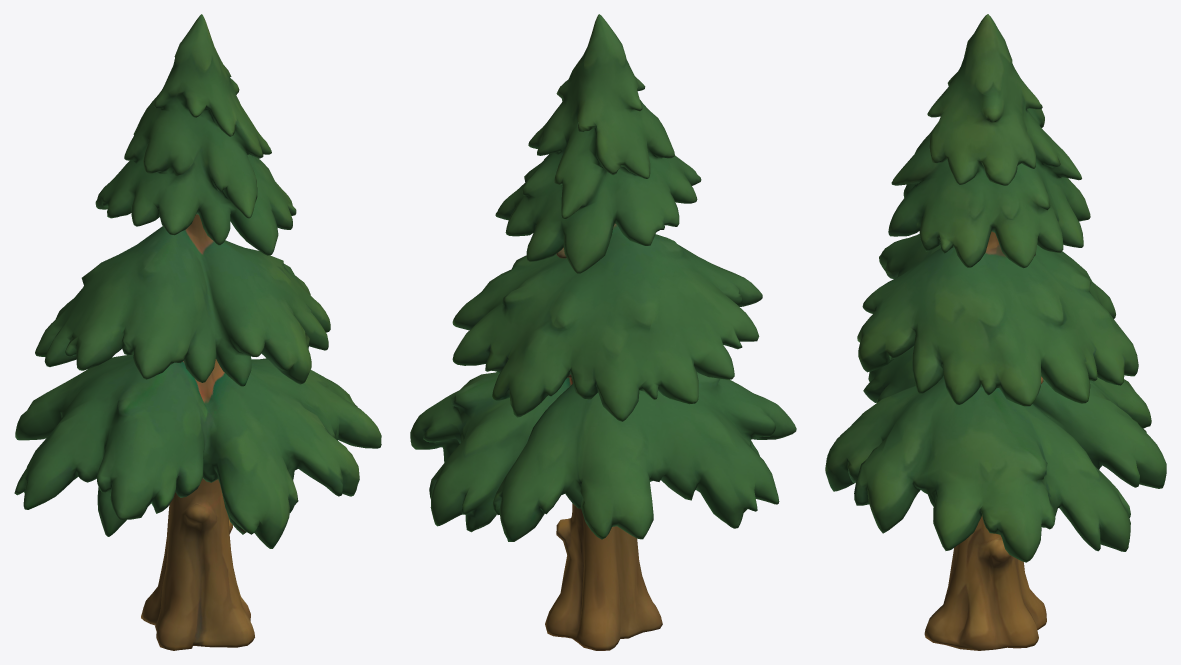
File: pine_tree.glb
The picture shows the model from 3 angles, left to right: view 1: azimuth 30°, elevation 25°; view 2: azimuth 150°, elevation 25°; view 3: azimuth 270°, elevation 25°; orthographic projection.
Visible parts, largest first — view 1: tripo_node_8377e91a; view 2: tripo_node_8377e91a; view 3: tripo_node_8377e91a.
Boxes of the visible parts, x1,y1,x2,y2 form: tripo_node_8377e91a: (14,14,381,650); tripo_node_8377e91a: (410,14,796,650); tripo_node_8377e91a: (825,14,1166,650).
Size of the model in its own units: 58.31 by 98.11 by 49.06.
Materials: 1 (1 with a texture image).
